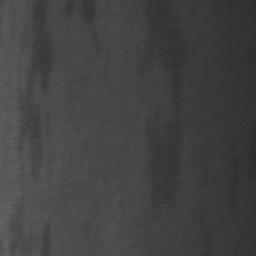Inclusion: (17, 0, 52, 183), (138, 0, 187, 104), (145, 114, 183, 210), (42, 224, 54, 256), (81, 0, 96, 24)
